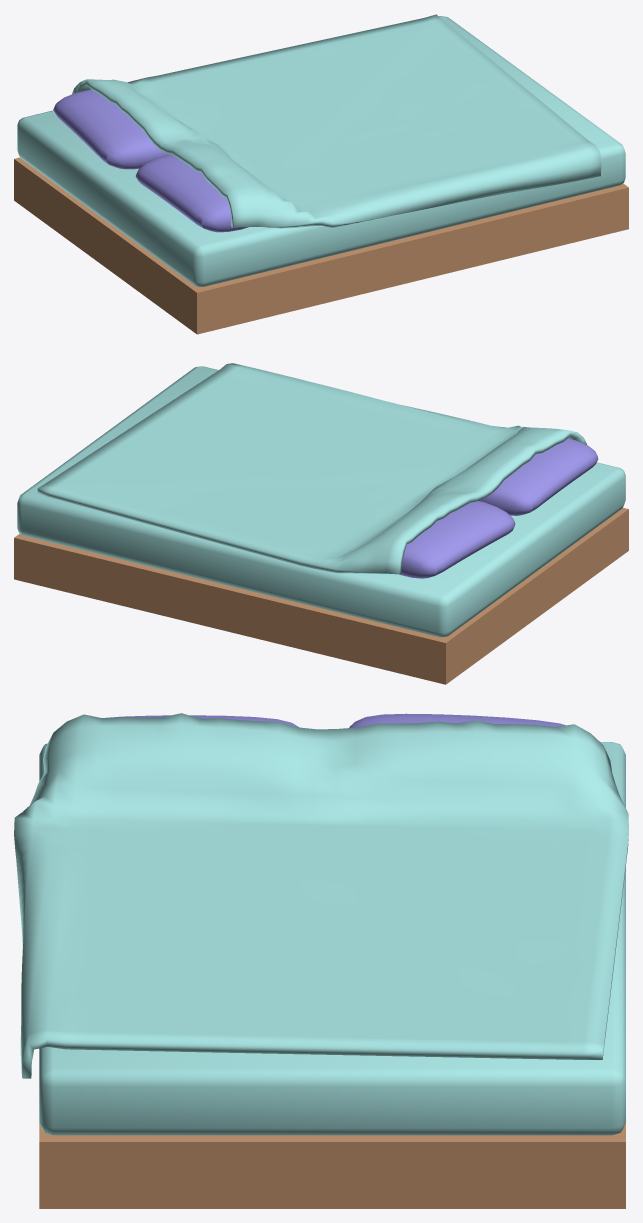
Rendered from PR_Bed.fbx.
3 renders of one model, top to bottom at view 1: azimuth 30°, elevation 25°; view 2: azimuth 150°, elevation 25°; view 3: azimuth 270°, elevation 25°, orthographic. The views are drawn at different scales.
Parts seen in each view (by area): view 1: Plane, Cube.001, Cube.005, Cube.003, Cube.002; view 2: Plane, Cube.005, Cube.001, Cube.003, Cube.002; view 3: Plane, Cube.005, Cube.001, Cube.003.
Boxes of the visible parts, box(x1,y1,x2,y2) form: Plane: box(71, 14, 601, 228); Cube.001: box(14, 157, 628, 334); Cube.005: box(17, 16, 625, 286); Cube.003: box(53, 89, 169, 169); Cube.002: box(135, 154, 248, 232); Plane: box(37, 363, 586, 574); Cube.005: box(17, 366, 625, 637); Cube.001: box(14, 507, 628, 684); Cube.003: box(399, 501, 515, 578); Cube.002: box(478, 438, 598, 515); Plane: box(14, 713, 628, 1078); Cube.005: box(39, 742, 625, 1135); Cube.001: box(39, 1123, 625, 1208); Cube.003: box(349, 713, 565, 727).
Bounding box in the file's own units: 200 × 54.25 × 154.
